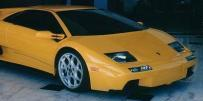front_view: (99, 42, 197, 93)
headlight: (103, 48, 137, 66)
side_glass: (3, 8, 65, 40)
